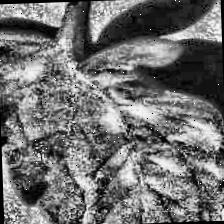leaf mold: (0, 22, 224, 224)
